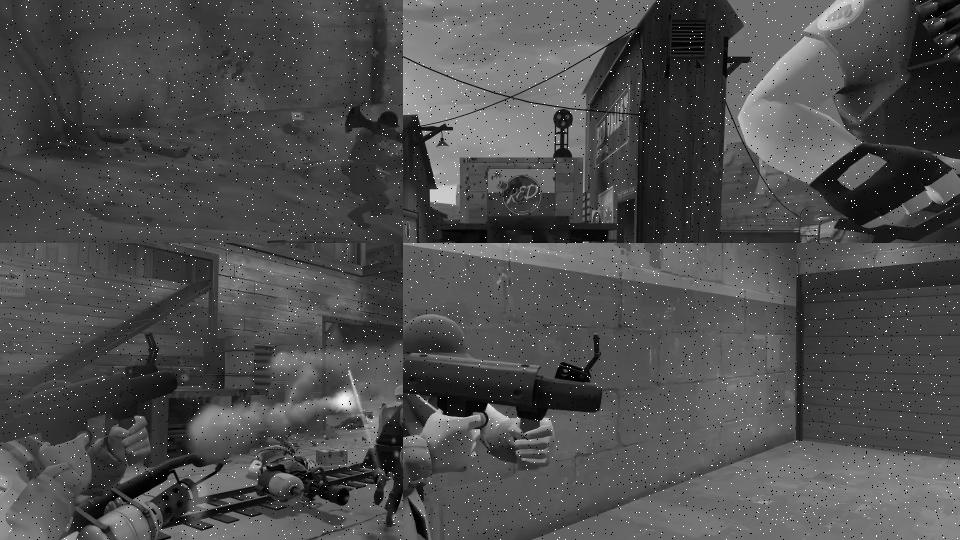Enemy: (739, 0, 960, 243), (403, 298, 606, 540), (0, 375, 234, 540), (0, 330, 179, 540), (338, 102, 403, 230), (248, 443, 349, 509), (360, 383, 403, 527), (334, 409, 374, 430)
